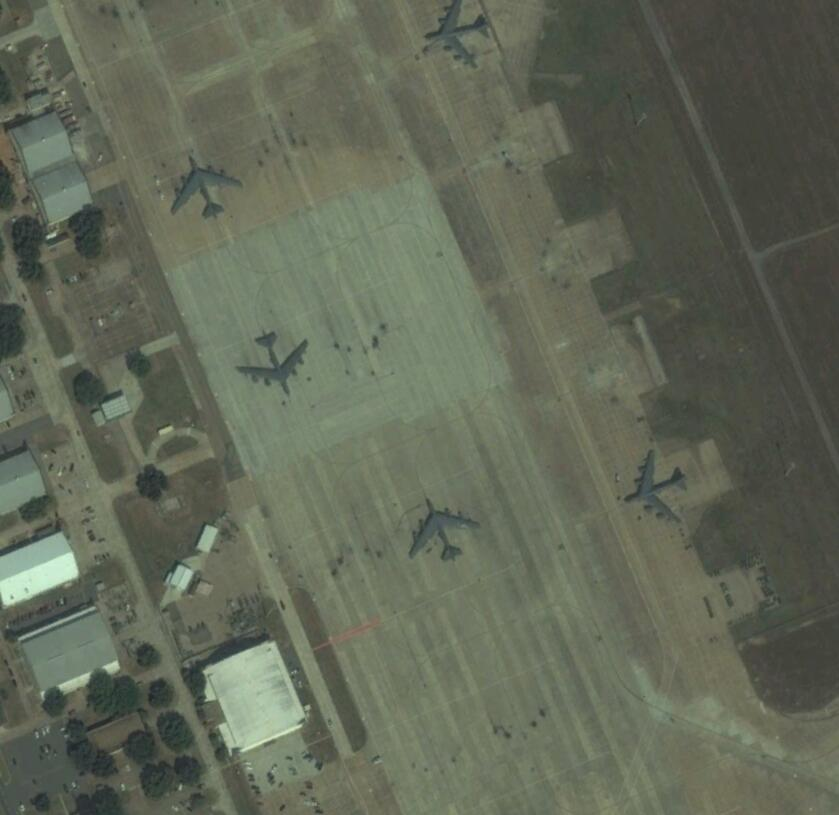A8: (168, 153, 246, 221), (235, 331, 313, 398), (407, 495, 482, 564), (624, 451, 691, 526), (422, 1, 493, 71)
